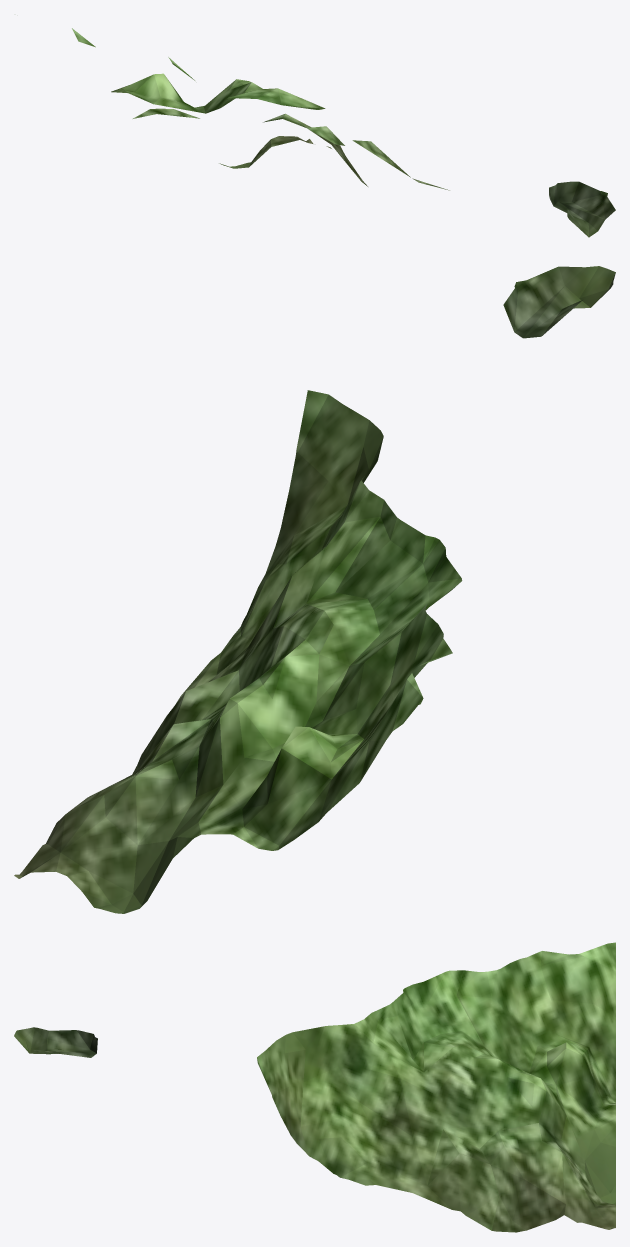
3 renders of one model, top to bottom at view 1: azimuth 30°, elevation 25°; view 2: azimuth 150°, elevation 25°; view 3: azimuth 270°, elevation 25°, orthographic. The views are drawn at different scales.
Bounding box in the file's own units: 2.39 × 1.59 × 5.03.
1 material, 1 textured.
